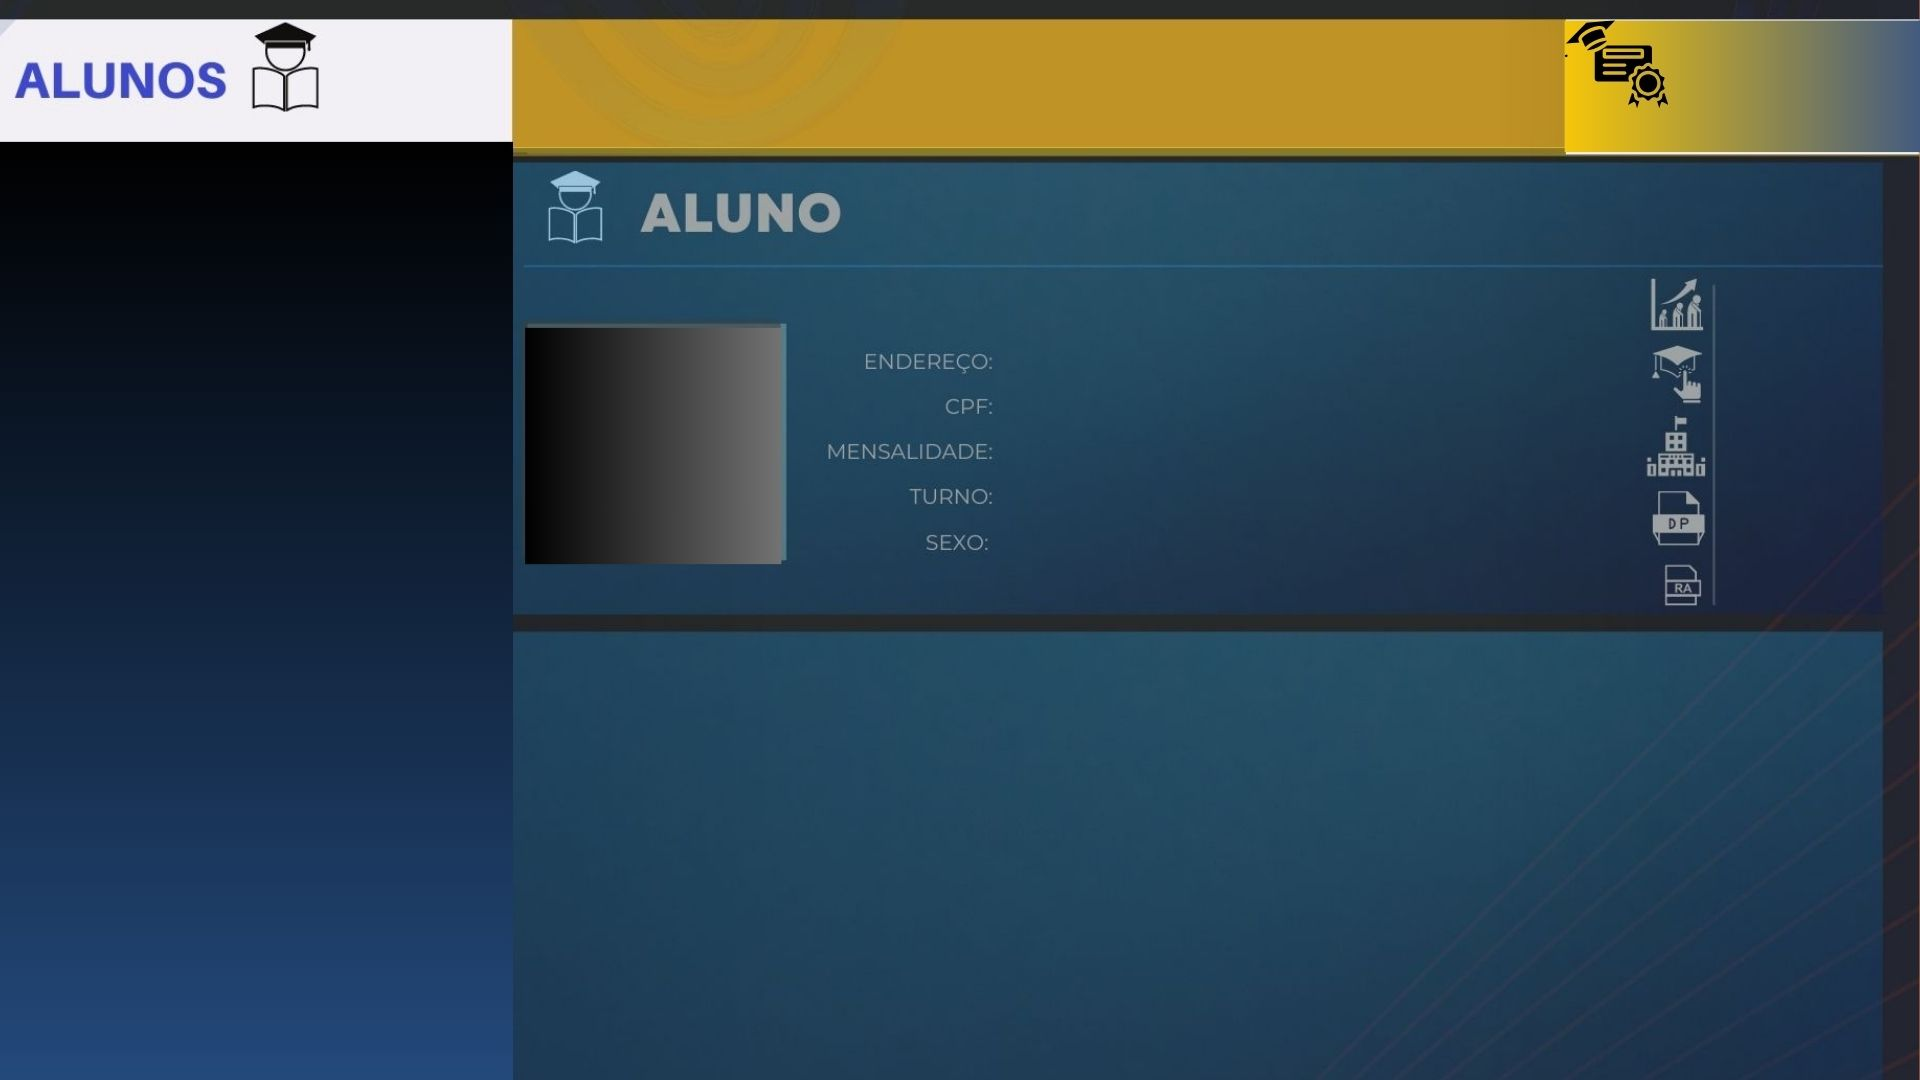

This screenshot's page, from the dashboard's own definition file:
{"tool":"powerbi","page":{"name":"Alunos","canvas":[1280,720],"ordinal":2},"visuals":[{"type":"textFilter25A4896A83E0487089E2B90C9AE57C8A","fields":{"field":["Tb_Base/Fato.Nº Matricula"]},"box":[354.2,18.8,214,75.2],"z":0},{"type":"textFilter25A4896A83E0487089E2B90C9AE57C8A","fields":{"field":["Tb_Dimensão/Campus.Campus"]},"box":[578.3,17.3,214,75.2],"z":1000},{"type":"textFilter25A4896A83E0487089E2B90C9AE57C8A","fields":{"field":["Tb_Dimensão/Cursos.Curso"]},"box":[803.9,17.3,214,75.2],"z":2000},{"type":"card","fields":{"Values":["Medidas ( Funções Dax).TT ALUNOS"]},"box":[228.4,4.3,109.9,85.3],"z":3000},{"type":"card","fields":{"Values":["Medidas ( Funções Dax).Selecione Aluno"]},"box":[606.2,110.8,487.7,53.8],"z":4000},{"type":"card","fields":{"Values":["Medidas ( Funções Dax).SELECIONE ENDEREÇO"]},"box":[698.5,218.5,275.4,26.2],"z":5000},{"type":"card","fields":{"Values":["Medidas ( Funções Dax).SELECIONE CPF"]},"box":[698.5,244.6,275.4,26.2],"z":6000},{"type":"card","fields":{"Values":["Medidas ( Funções Dax).SELECIONE MENSALIDADE"]},"box":[698.3,270.4,274.7,31.8],"z":7000},{"type":"card","fields":{"Values":["Medidas ( Funções Dax).SELECIONE TURNO"]},"box":[698.5,304.6,275.4,26.2],"z":8000},{"type":"card","fields":{"Values":["Medidas ( Funções Dax).SELECIONE GÊNERO"]},"box":[698.5,333.8,275.4,26.2],"z":9000},{"type":"actionButton","box":[75.2,201,43.4,40.5],"z":10000},{"type":"actionButton","box":[75.2,201,43.4,40.5],"z":11000},{"type":"actionButton","box":[72.3,406.3,49.2,41.9],"z":12000},{"type":"actionButton","box":[72.3,507.5,49.2,41.9],"z":13000},{"type":"card","fields":{"Values":["Medidas ( Funções Dax).SELECIONE IDADE"]},"box":[1153.7,192.3,91.1,27.5],"z":14000},{"type":"card","fields":{"Values":["Medidas ( Funções Dax).SELECIONE CAMPUS"]},"box":[1153.7,279,91.1,27.5],"z":15000},{"type":"card","fields":{"Values":["Medidas ( Funções Dax).SELECIONE CURSO"]},"box":[1153.7,231.3,99.8,30.4],"z":16000},{"type":"card","fields":{"Values":["Medidas ( Funções Dax).SELECIONE DPS"]},"box":[1152.3,318.1,101.2,30.4],"z":17000},{"type":"card","fields":{"Values":["Medidas ( Funções Dax).SELECIONE MATRÍCULA"]},"box":[1156.6,360,96.9,30.4],"z":18000},{"type":"tableEx","title":"RESUMO DE ALUNOS","fields":{"Values":["Tb_Base/Fato.Nº Matricula","Tb_Base/Fato.Alunos","Tb_Dimensão/Gênero.Gênero","Tb_Dimensão/Cursos.Curso","Tb_Dimensão/Turno.Turno","Tb_Dimensão/Campus.Campus","Tb_Dimensão/DPS.DPS Adaptações","Tb_Dimensão/Situação Diploma.Situação de Diploma"]},"box":[341.2,419.3,912.3,300.7],"z":19000},{"type":"simpleImageEBC4593F96F1425FB3D84C5BF02B5075","fields":{"imageURL":["Tb_Base/Fato.ÍCONE DIPLOMA"]},"box":[1151,45,64.3,42.9],"z":20000},{"type":"simpleImageEBC4593F96F1425FB3D84C5BF02B5075","fields":{"imageURL":["Tb_Base/Fato.Fotos de Alunos"]},"box":[367.2,231.3,144.6,134.5],"z":21000}]}

Visuals, with their boxes in screenshot pixels (x1, y1, x2, y2), scaled from the page's 1280x720 canvas onto the 1920x1080 screenshot:
textFilter25A4896A83E0487089E2B90C9AE57C8A - Tb_Base/Fato.Nº Matricula: left=531, top=28, right=852, bottom=141
textFilter25A4896A83E0487089E2B90C9AE57C8A - Tb_Dimensão/Campus.Campus: left=867, top=26, right=1188, bottom=139
textFilter25A4896A83E0487089E2B90C9AE57C8A - Tb_Dimensão/Cursos.Curso: left=1206, top=26, right=1527, bottom=139
card - Medidas ( Funções Dax).TT ALUNOS: left=343, top=6, right=507, bottom=134
card - Medidas ( Funções Dax).Selecione Aluno: left=909, top=166, right=1641, bottom=247
card - Medidas ( Funções Dax).SELECIONE ENDEREÇO: left=1048, top=328, right=1461, bottom=367
card - Medidas ( Funções Dax).SELECIONE CPF: left=1048, top=367, right=1461, bottom=406
card - Medidas ( Funções Dax).SELECIONE MENSALIDADE: left=1047, top=406, right=1460, bottom=453
card - Medidas ( Funções Dax).SELECIONE TURNO: left=1048, top=457, right=1461, bottom=496
card - Medidas ( Funções Dax).SELECIONE GÊNERO: left=1048, top=501, right=1461, bottom=540
actionButton: left=113, top=302, right=178, bottom=362
actionButton: left=113, top=302, right=178, bottom=362
actionButton: left=108, top=609, right=182, bottom=672
actionButton: left=108, top=761, right=182, bottom=824
card - Medidas ( Funções Dax).SELECIONE IDADE: left=1731, top=288, right=1867, bottom=330
card - Medidas ( Funções Dax).SELECIONE CAMPUS: left=1731, top=418, right=1867, bottom=460
card - Medidas ( Funções Dax).SELECIONE CURSO: left=1731, top=347, right=1880, bottom=393
card - Medidas ( Funções Dax).SELECIONE DPS: left=1728, top=477, right=1880, bottom=523
card - Medidas ( Funções Dax).SELECIONE MATRÍCULA: left=1735, top=540, right=1880, bottom=586
"RESUMO DE ALUNOS" tableEx: left=512, top=629, right=1880, bottom=1079
simpleImageEBC4593F96F1425FB3D84C5BF02B5075 - Tb_Base/Fato.ÍCONE DIPLOMA: left=1726, top=68, right=1823, bottom=132
simpleImageEBC4593F96F1425FB3D84C5BF02B5075 - Tb_Base/Fato.Fotos de Alunos: left=551, top=347, right=768, bottom=549
